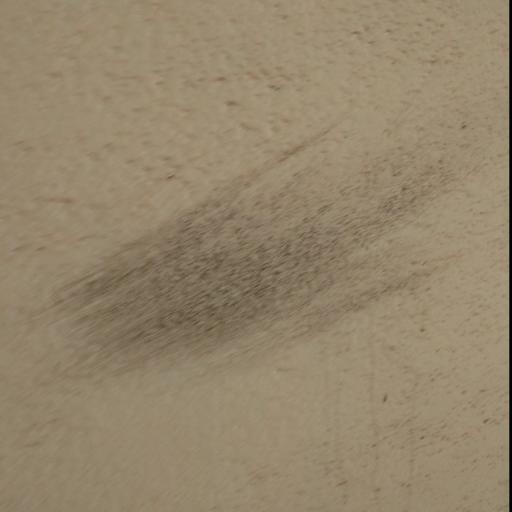stain: (31, 110, 484, 378)
